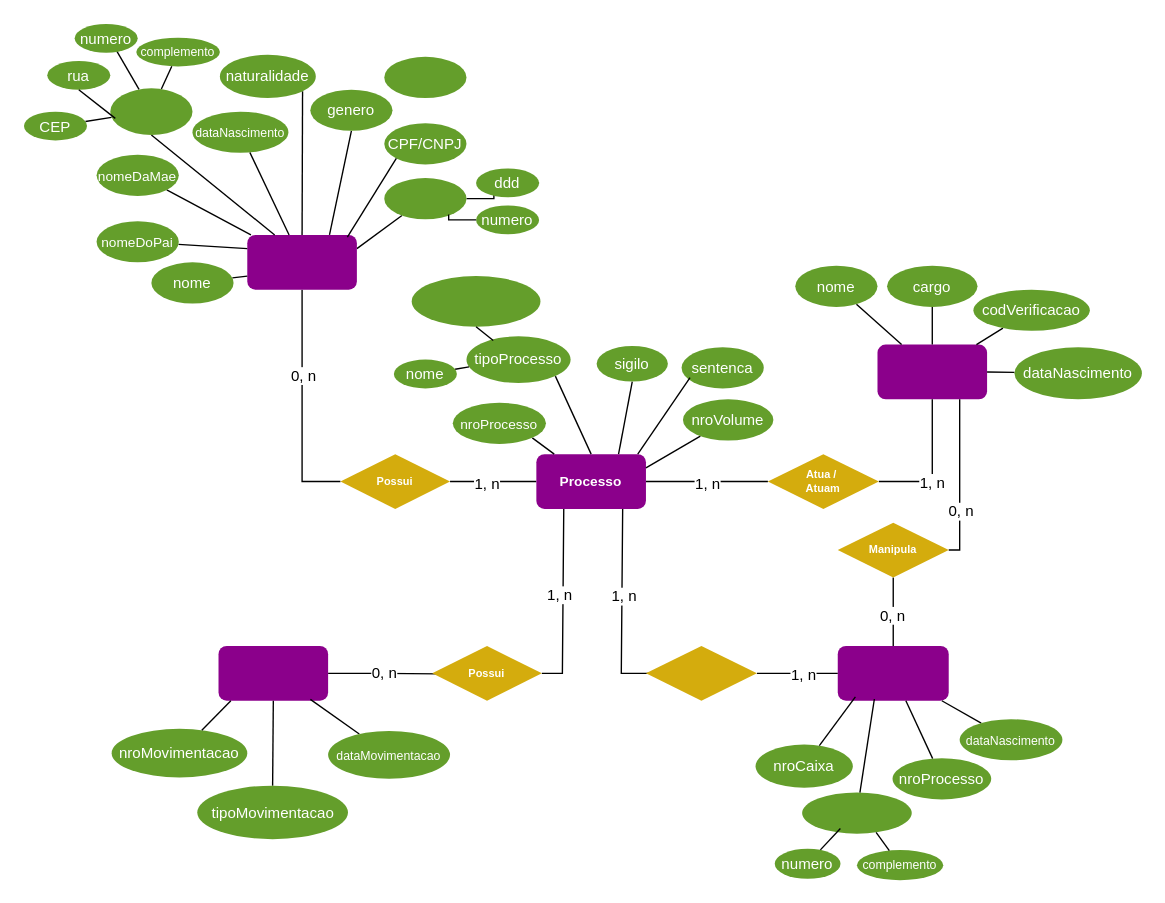
The diagram is 1165 pixels wide and 903 high, and some of its shapes have lost their labels. Here are the shapes that lost their labels. From the top down, the centre of each, then its label:
At (425,76): "classe".
At (151,111): "endereco".
At (425,198): "telefone".
At (301,261): "Parte".
At (475,300): "classeProcessual".
At (931,371): "Funcionário".
At (272,672): "Movimentacao".
At (700,672): "Armazenado".
At (892,672): "Caixa".
At (856,812): "localizacao".
